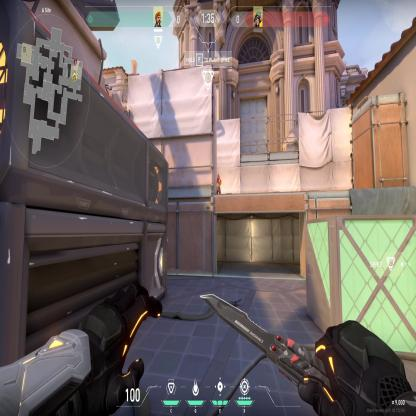enemy: (216, 172, 221, 195)
